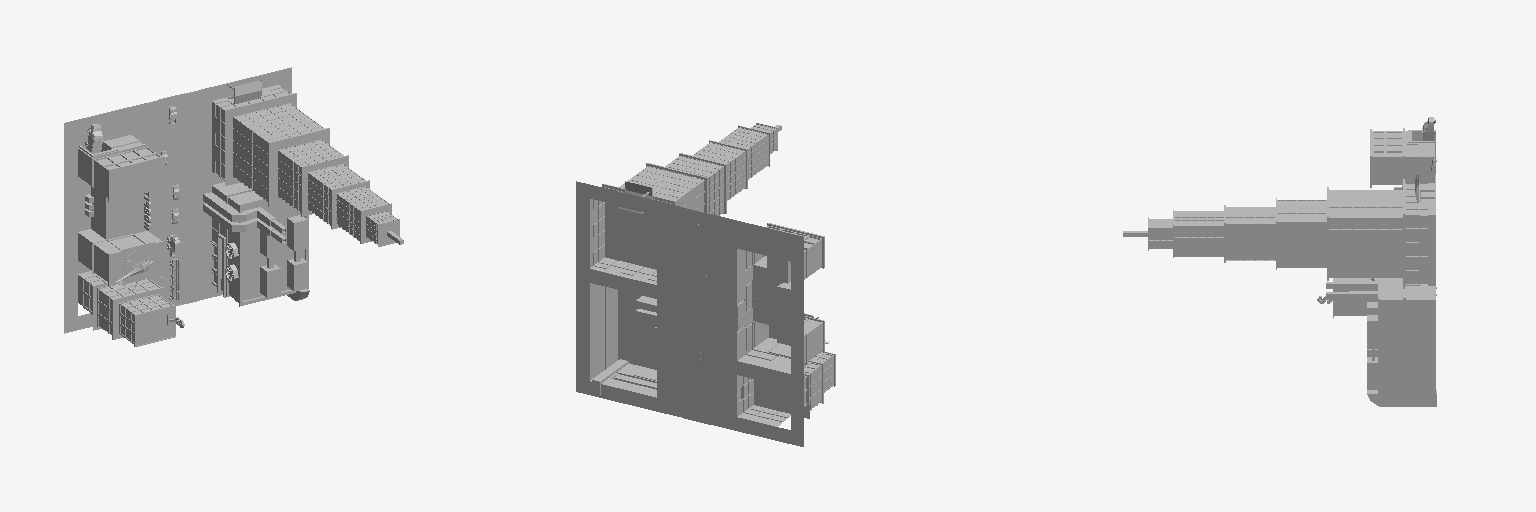
Rendered from town.obj.
3 views of the same model, side by side, from view 1: azimuth 30°, elevation 25°; view 2: azimuth 150°, elevation 25°; view 3: azimuth 270°, elevation 25° (orthographic).
Parts seen in each view (by area): view 1: Plane.003; view 2: Plane.003; view 3: Plane.003.
Part boxes in pixels (bbox=[...]): Plane.003: bbox=[64, 67, 403, 346]; Plane.003: bbox=[576, 123, 835, 446]; Plane.003: bbox=[1123, 117, 1436, 406].
Size of the model in its own units: 124 by 111 by 148.